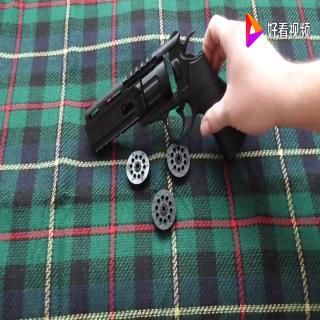gun: (84, 29, 246, 168)
